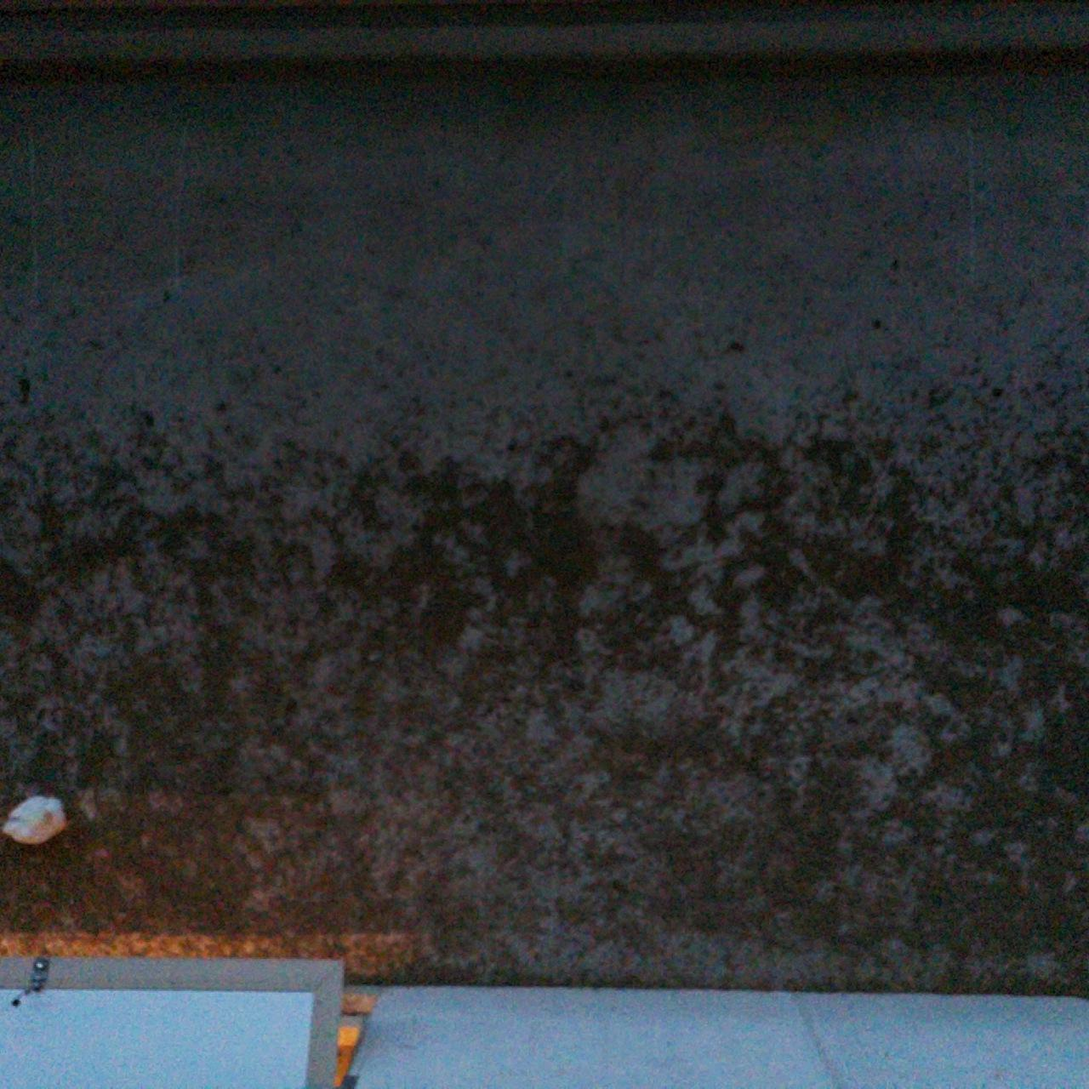chicken: (0, 791, 71, 846)
